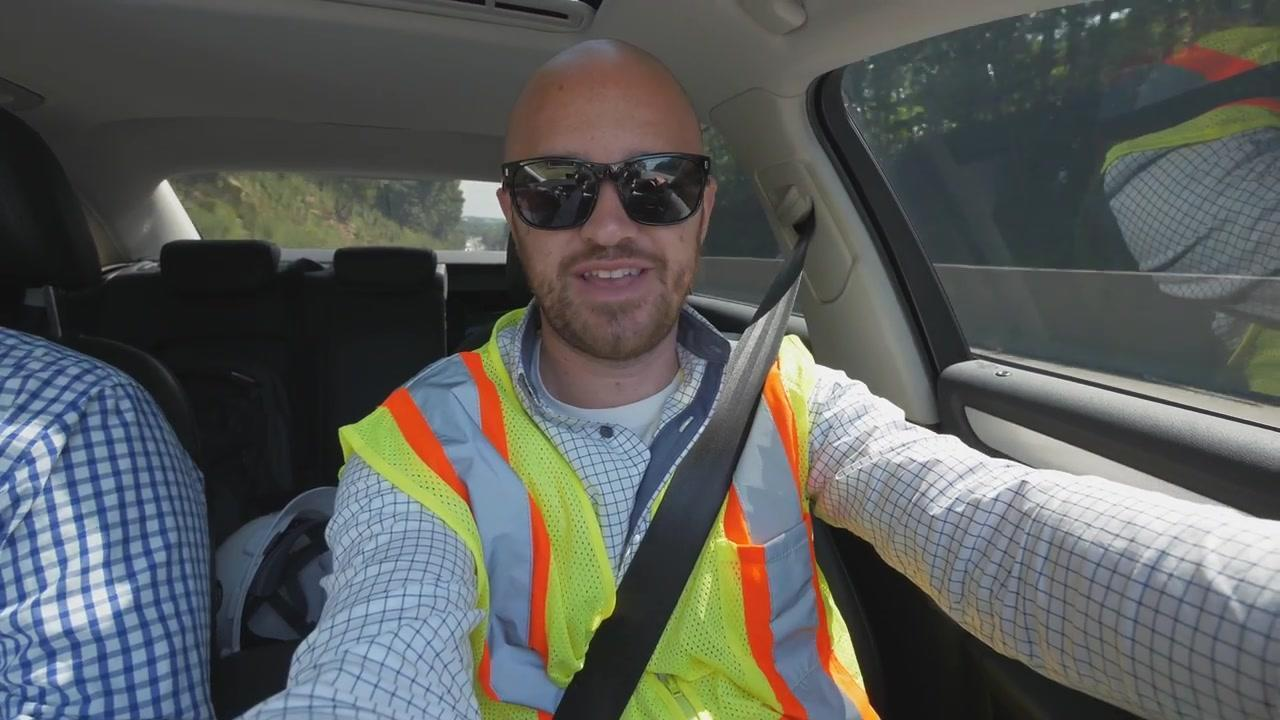vest: (334, 309, 884, 719), (1098, 24, 1279, 395)
